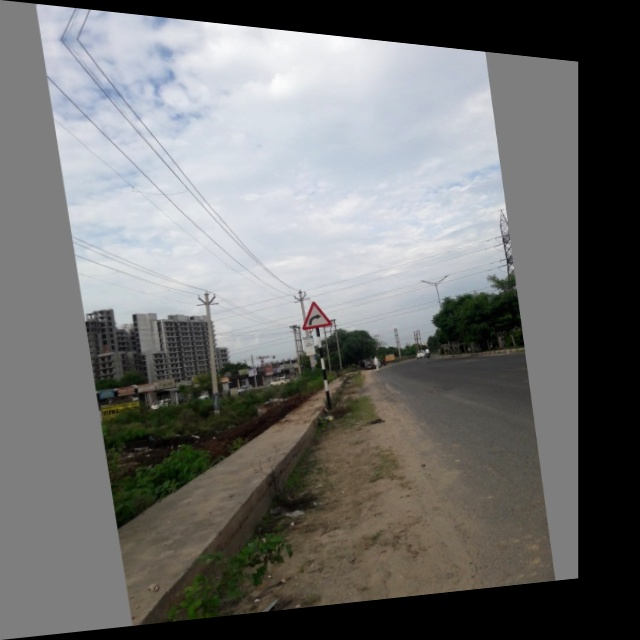Right_Hand_Curve: (297, 297, 333, 333)
